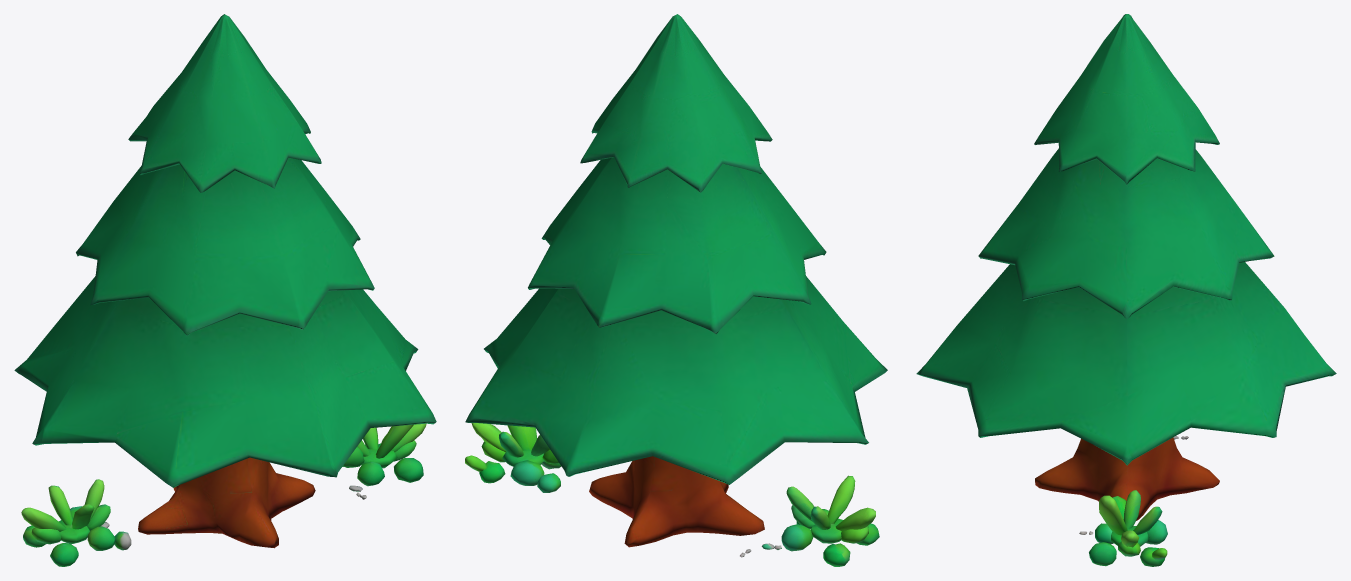
Rendered from r2c5_large_pine.glb.
3 renders of one model, left to right at view 1: azimuth 30°, elevation 25°; view 2: azimuth 150°, elevation 25°; view 3: azimuth 270°, elevation 25°, orthographic. The views are drawn at different scales.
Bounding box in the file's own units: 0.8457 × 1 × 0.8066.
Materials: 1 (1 with a texture image).
